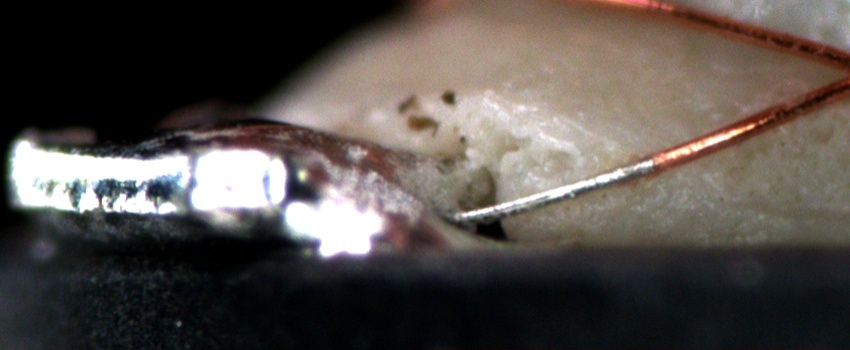CL: (831, 45, 850, 96)
TS: (453, 156, 656, 223)
